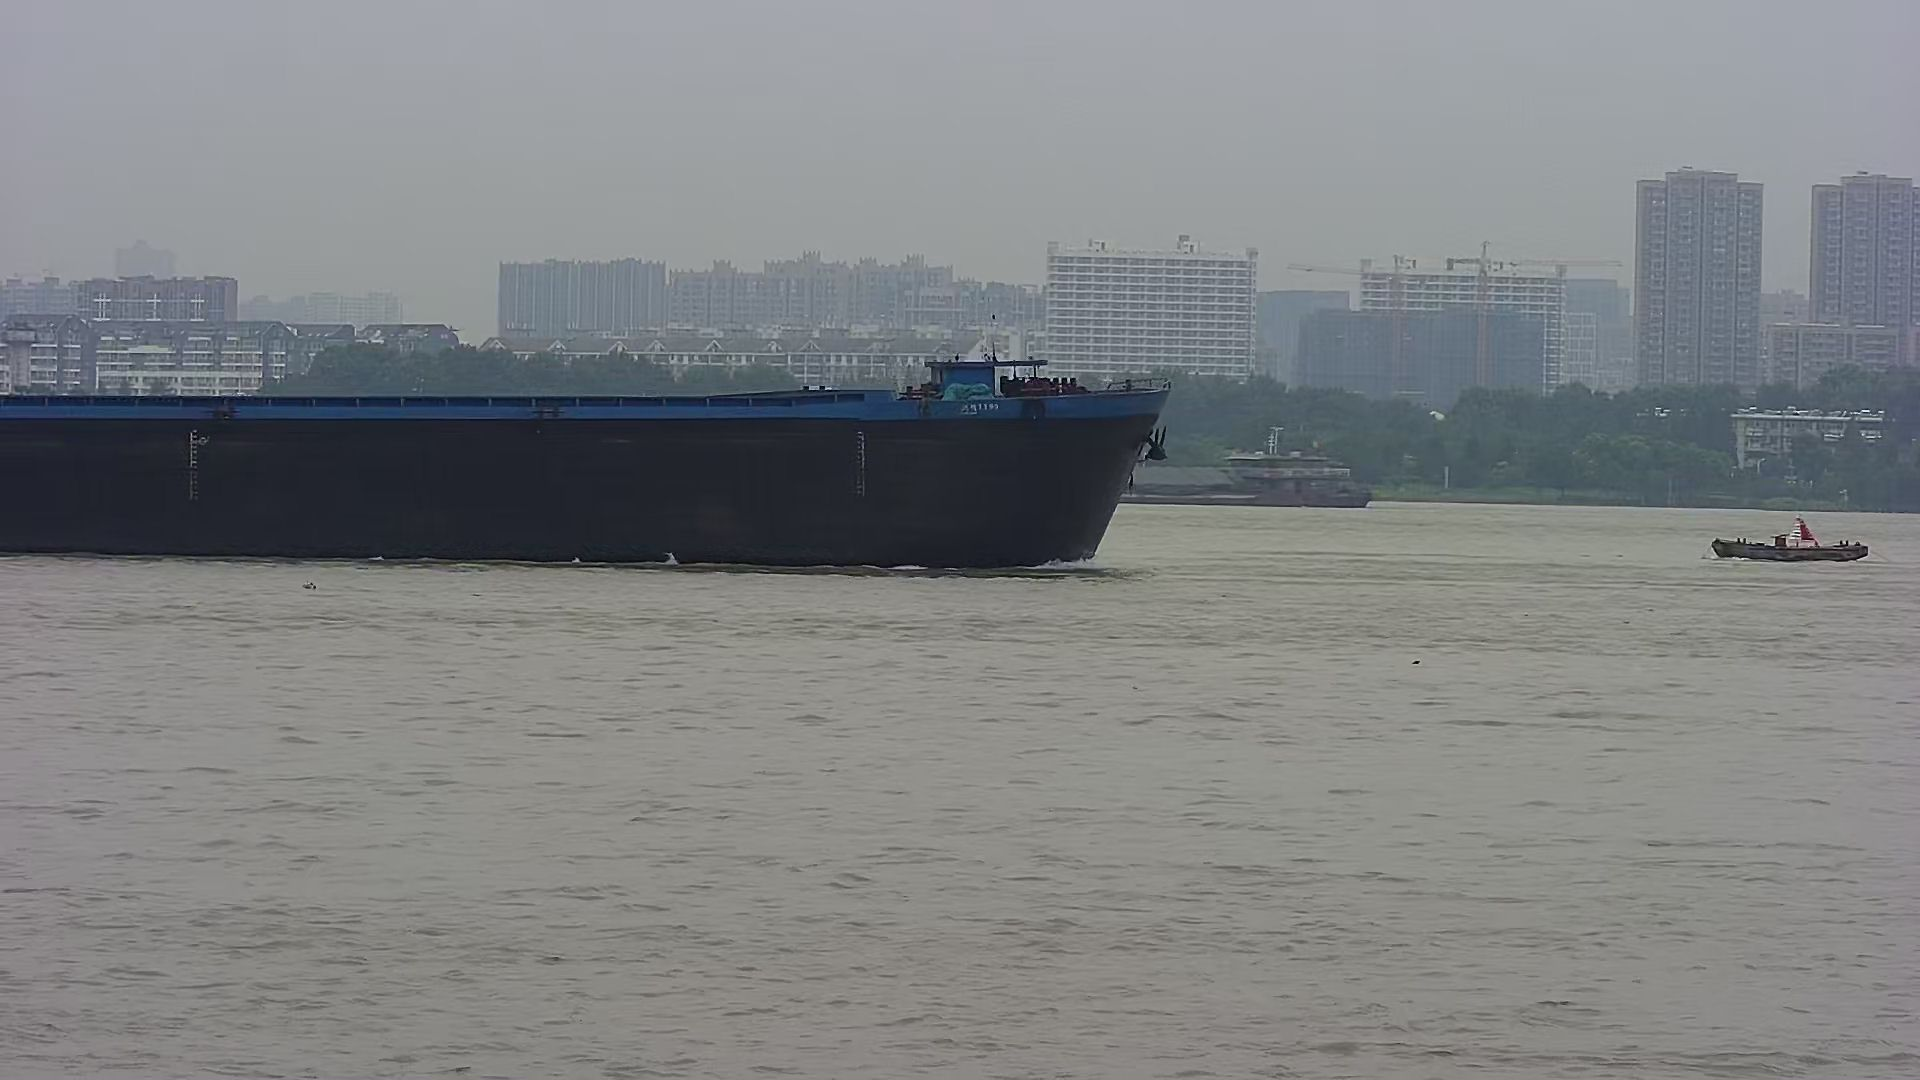boat: (1697, 501, 1878, 564)
ship: (1, 332, 1197, 574), (1092, 414, 1398, 520)
